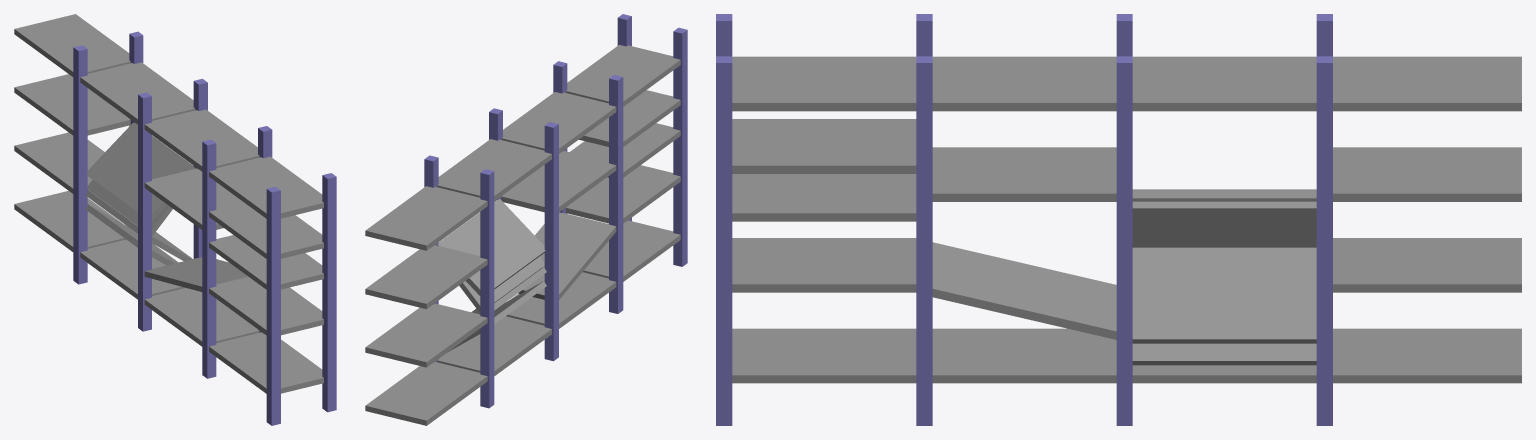
The model's file is shelves-2.glb.
The picture shows the model from 3 angles, left to right: view 1: azimuth 30°, elevation 25°; view 2: azimuth 150°, elevation 25°; view 3: azimuth 270°, elevation 25°; orthographic projection. The views are drawn at different scales.
Visible parts, largest first — view 1: shelf-1; view 2: shelf-1; view 3: shelf-1.
Part boxes in pixels (<box>): shelf-1: <box>14,14,336,425</box>; shelf-1: <box>365,14,687,425</box>; shelf-1: <box>716,14,1521,425</box>.
Bounding box in the file's own units: 4.65 × 16 × 32.2.
